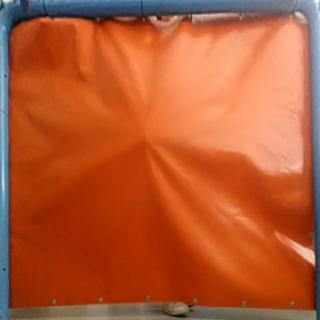Hit-hRxx: (141, 131, 153, 146)
